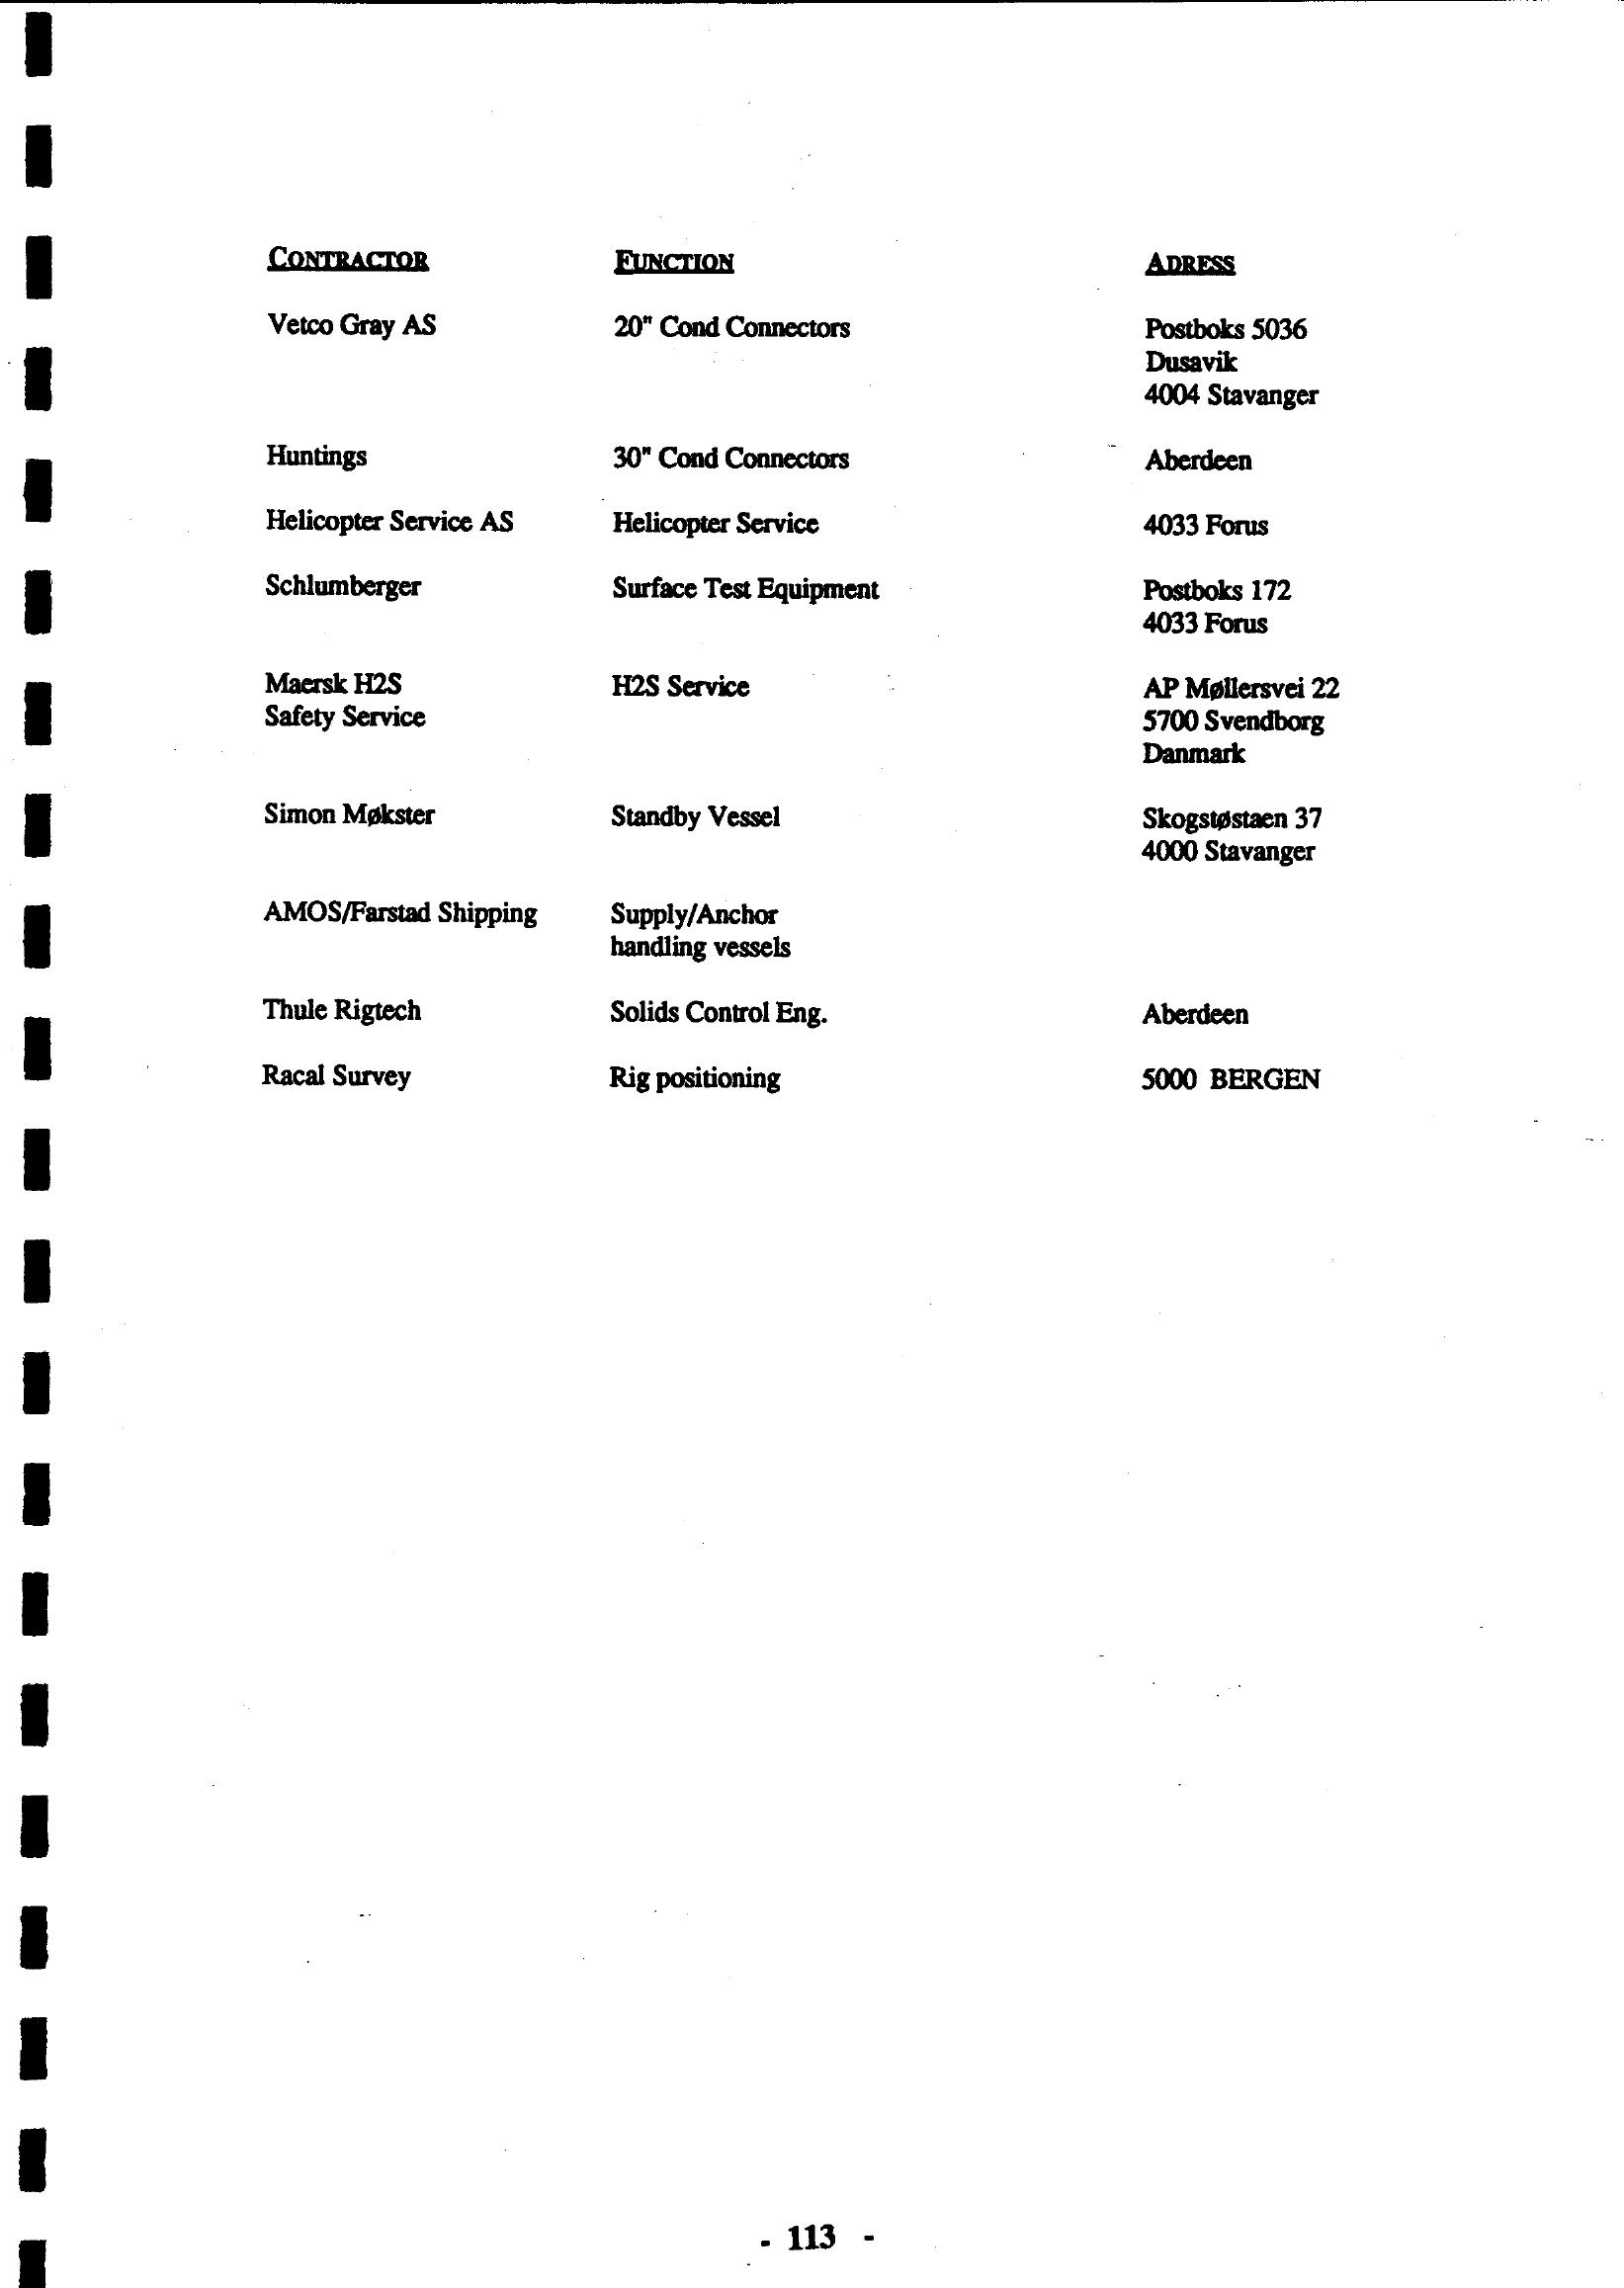table: (209, 214, 1417, 1133)
